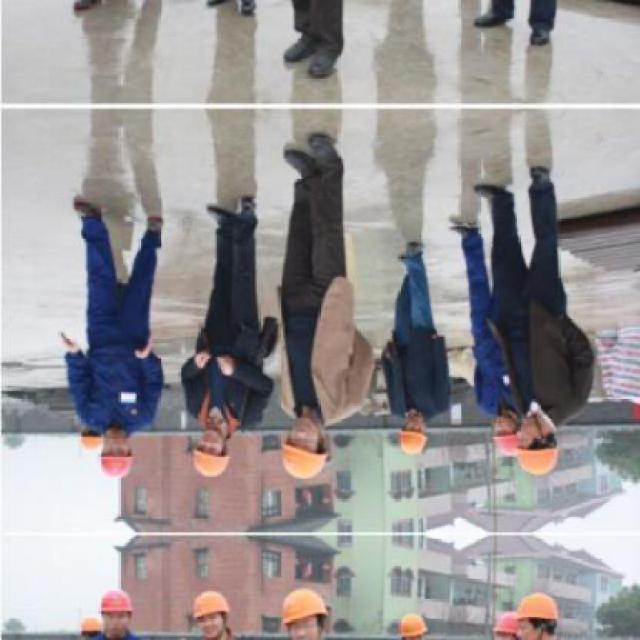con casco: (505, 362, 579, 514), (170, 390, 260, 497), (72, 393, 152, 512), (272, 391, 356, 492), (395, 382, 441, 486), (484, 383, 526, 491)
